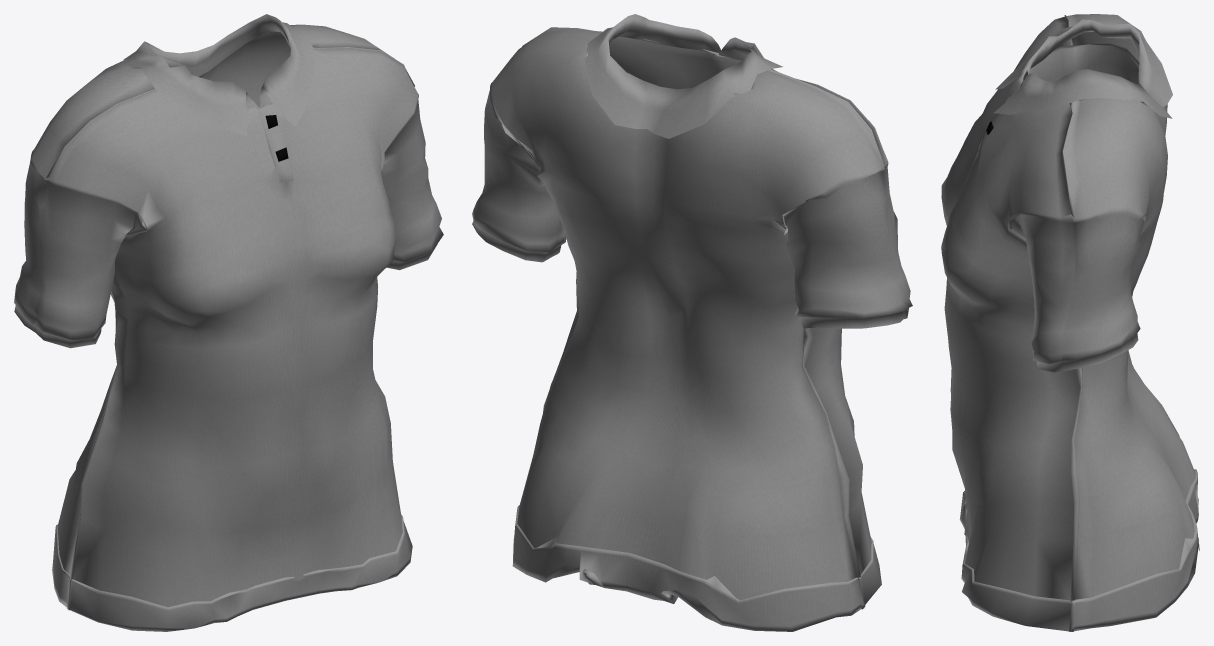
The model's file is top_polo.gltf.
The picture shows the model from 3 angles, left to right: view 1: azimuth 30°, elevation 25°; view 2: azimuth 150°, elevation 25°; view 3: azimuth 270°, elevation 25°; orthographic projection. The views are drawn at different scales.
Parts seen in each view (by area): view 1: top_polo; view 2: top_polo; view 3: top_polo.
Boxes of the visible parts, box(x1,y1,x2,y2) form: top_polo: box(14, 14, 443, 631); top_polo: box(472, 14, 912, 631); top_polo: box(941, 14, 1199, 631).
Bounding box in the file's own units: 0.4849 × 0.5975 × 0.2729.
1 material, 1 textured.
